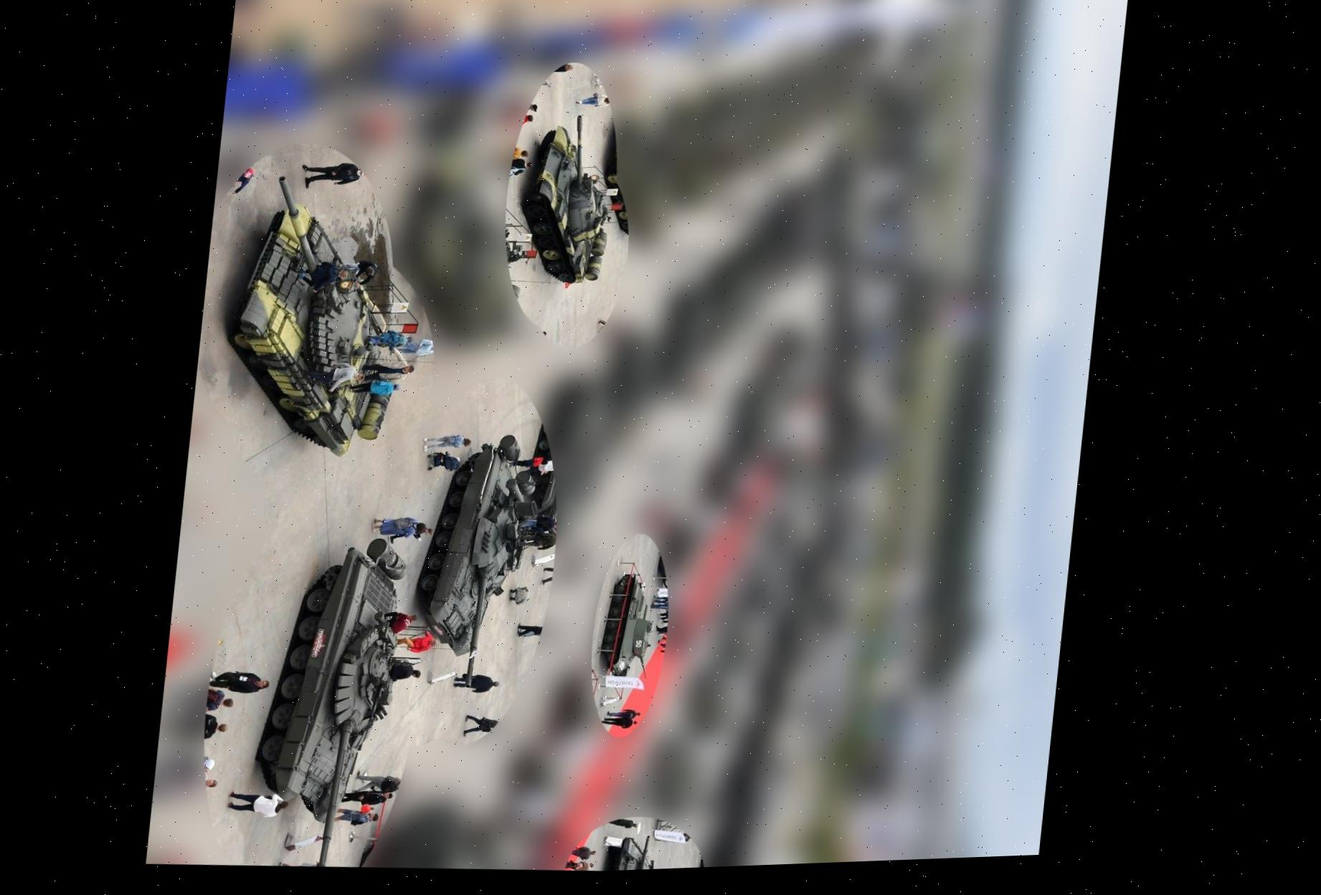tank: (215, 166, 425, 465), (244, 541, 406, 872), (405, 435, 538, 692), (515, 112, 628, 298), (592, 567, 663, 689), (600, 830, 675, 871)
